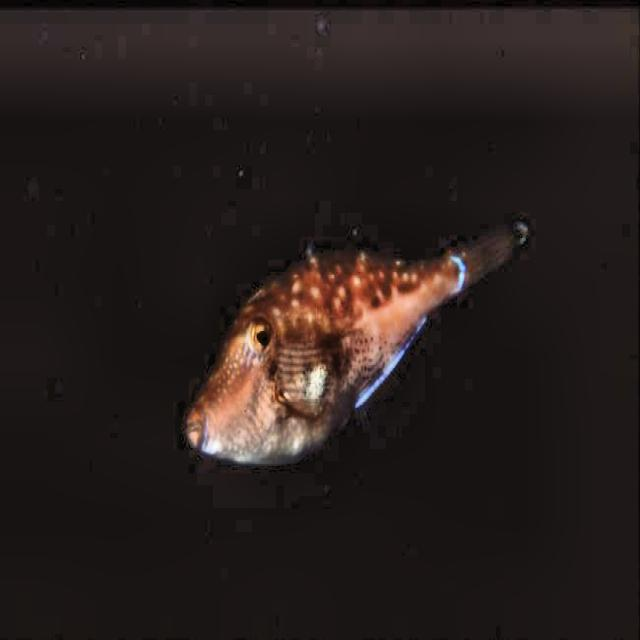fish: (186, 218, 530, 467)
